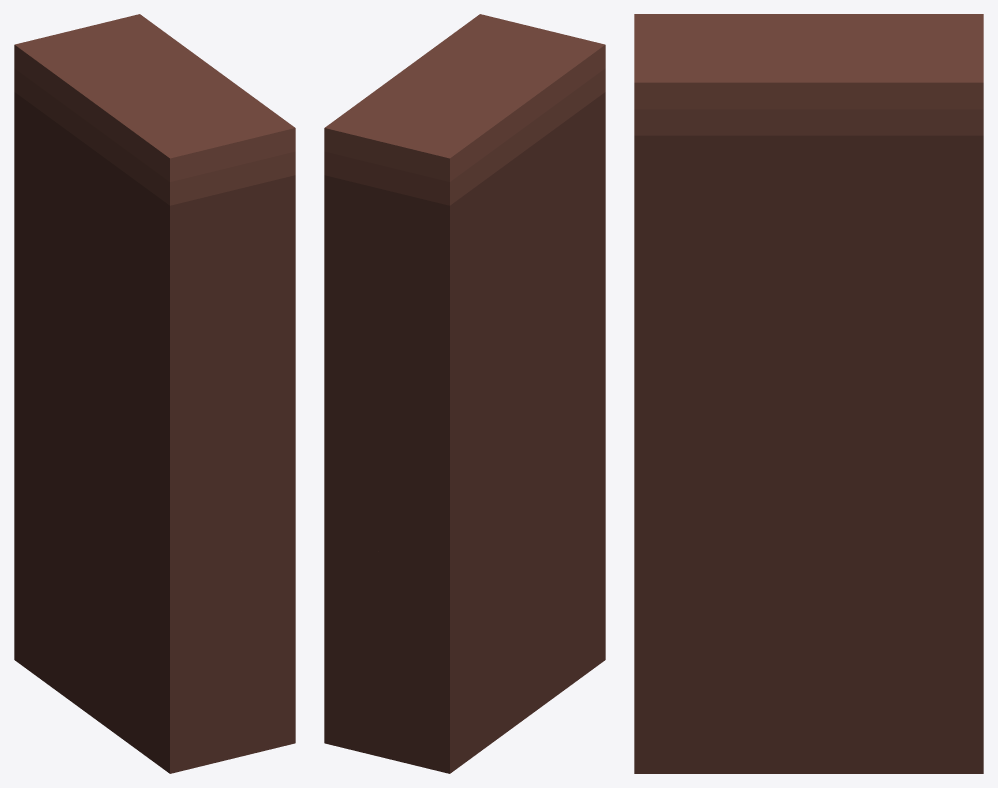
File: Fase_2_Parte_6S.fbx
3 renders of one model, left to right at view 1: azimuth 30°, elevation 25°; view 2: azimuth 150°, elevation 25°; view 3: azimuth 270°, elevation 25°, orthographic. The views are drawn at different scales.
Visible parts, largest first — view 1: Plane.083, Plane.097, Plane.095, Plane.096, Plane.098, Plane.116, Plane.082, Plane.004, Plane.034, Plane.033, Plane.115, Plane.003; view 2: Plane.082, Plane.033, Plane.003, Plane.004, Plane.034, Plane.115, Plane.083, Plane.096, Plane.098, Plane.097, Plane.116, Plane.095; view 3: Plane.082, Plane.083, Plane.003, Plane.004, Plane.033, Plane.034, Plane.095, Plane.096, Plane.097, Plane.098, Plane.115, Plane.116.
Part boxes in pixels (bbox=[...]): Plane.083: bbox=[92, 71, 295, 260]; Plane.097: bbox=[92, 512, 295, 671]; Plane.095: bbox=[92, 307, 295, 465]; Plane.096: bbox=[92, 204, 295, 363]; Plane.098: bbox=[92, 409, 295, 568]; Plane.116: bbox=[92, 615, 295, 773]; Plane.082: bbox=[14, 14, 217, 203]; Plane.004: bbox=[14, 147, 92, 306]; Plane.034: bbox=[14, 352, 92, 511]; Plane.033: bbox=[14, 455, 92, 613]; Plane.115: bbox=[14, 557, 92, 716]; Plane.003: bbox=[14, 250, 92, 408]; Plane.082: bbox=[324, 71, 527, 260]; Plane.033: bbox=[324, 512, 527, 671]; Plane.003: bbox=[324, 307, 527, 465]; Plane.004: bbox=[324, 204, 527, 363]; Plane.034: bbox=[324, 409, 527, 568]; Plane.115: bbox=[324, 615, 527, 773]; Plane.083: bbox=[402, 14, 605, 203]; Plane.096: bbox=[527, 147, 605, 306]; Plane.098: bbox=[527, 352, 605, 511]; Plane.097: bbox=[527, 455, 605, 613]; Plane.116: bbox=[527, 557, 605, 716]; Plane.095: bbox=[527, 250, 605, 408]; Plane.082: bbox=[809, 14, 983, 197]; Plane.083: bbox=[634, 14, 808, 197]; Plane.003: bbox=[809, 313, 983, 428]; Plane.004: bbox=[809, 198, 983, 313]; Plane.033: bbox=[809, 543, 983, 658]; Plane.034: bbox=[809, 428, 983, 543]; Plane.095: bbox=[634, 313, 808, 428]; Plane.096: bbox=[634, 198, 808, 313]; Plane.097: bbox=[634, 543, 808, 658]; Plane.098: bbox=[634, 428, 808, 543]; Plane.115: bbox=[809, 658, 983, 773]; Plane.116: bbox=[634, 658, 808, 773].
Size of the model in its own units: 1720 by 8064 by 3696.
